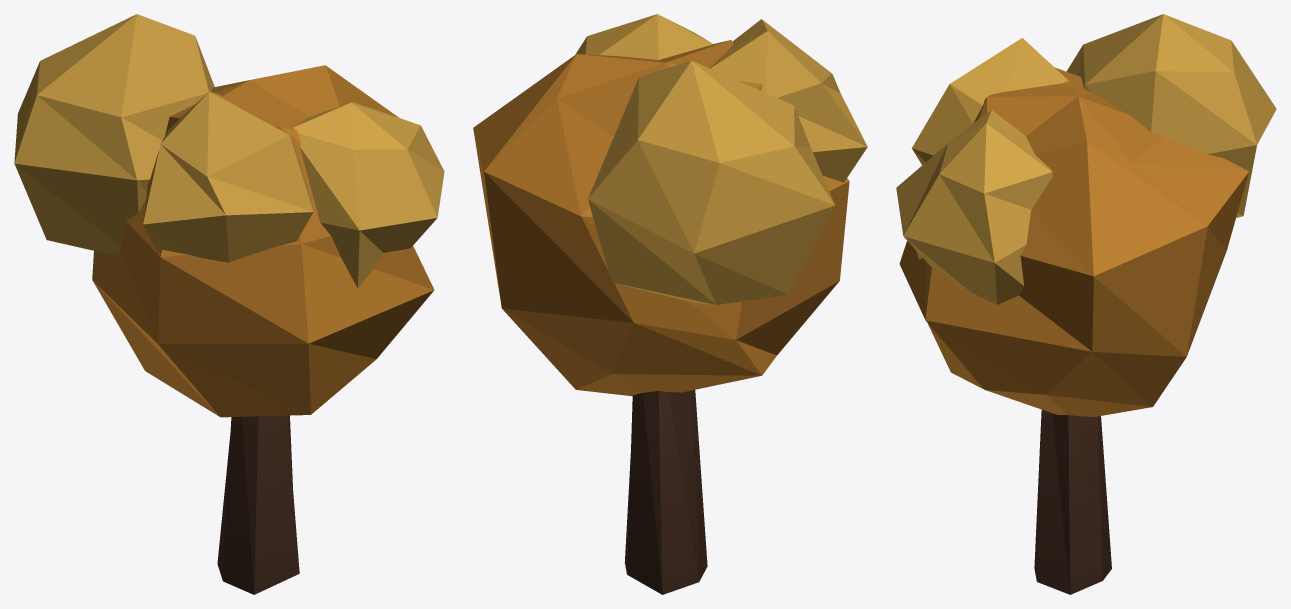
File: tree_amber_3.glb
3 renders of one model, left to right at view 1: azimuth 30°, elevation 25°; view 2: azimuth 150°, elevation 25°; view 3: azimuth 270°, elevation 25°, orthographic. The views are drawn at different scales.
Visible parts, largest first — view 1: tree_amber_3; view 2: tree_amber_3; view 3: tree_amber_3.
Boxes of the visible parts, left/top/right/bottom form: tree_amber_3: left=14, top=14, right=444, bottom=594; tree_amber_3: left=473, top=14, right=867, bottom=594; tree_amber_3: left=896, top=14, right=1276, bottom=594.
Bounding box in the file's own units: 0.7433 × 1.03 × 0.6719.
